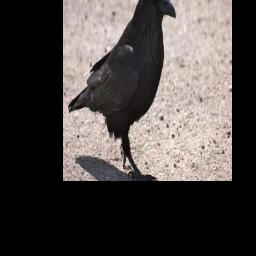Crow: (66, 0, 177, 180)
